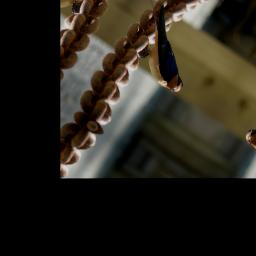Swallow: (103, 0, 220, 97)
